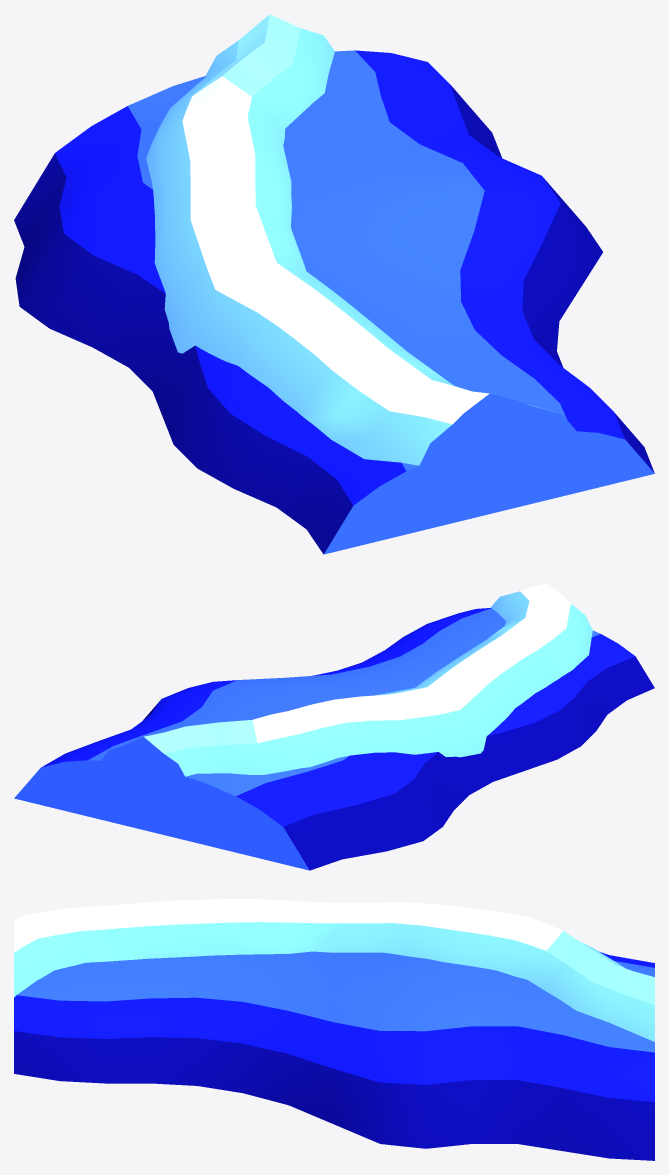
The model's file is shot_lightning_249.glb.
3 renders of one model, top to bottom at view 1: azimuth 30°, elevation 25°; view 2: azimuth 150°, elevation 25°; view 3: azimuth 270°, elevation 25°, orthographic. The views are drawn at different scales.
Visible parts, largest first — view 1: shot_lightning_249_0, shot_lightning_249_1; view 2: shot_lightning_249_0, shot_lightning_249_1; view 3: shot_lightning_249_0, shot_lightning_249_1.
Boxes of the visible parts, bbox=[...] form: shot_lightning_249_0: bbox=[14, 50, 654, 554]; shot_lightning_249_1: bbox=[146, 14, 581, 472]; shot_lightning_249_0: bbox=[14, 608, 654, 870]; shot_lightning_249_1: bbox=[100, 583, 592, 779]; shot_lightning_249_0: bbox=[14, 951, 654, 1160]; shot_lightning_249_1: bbox=[14, 899, 654, 1041].
Size of the model in its own units: 11 by 2.86 by 14.
